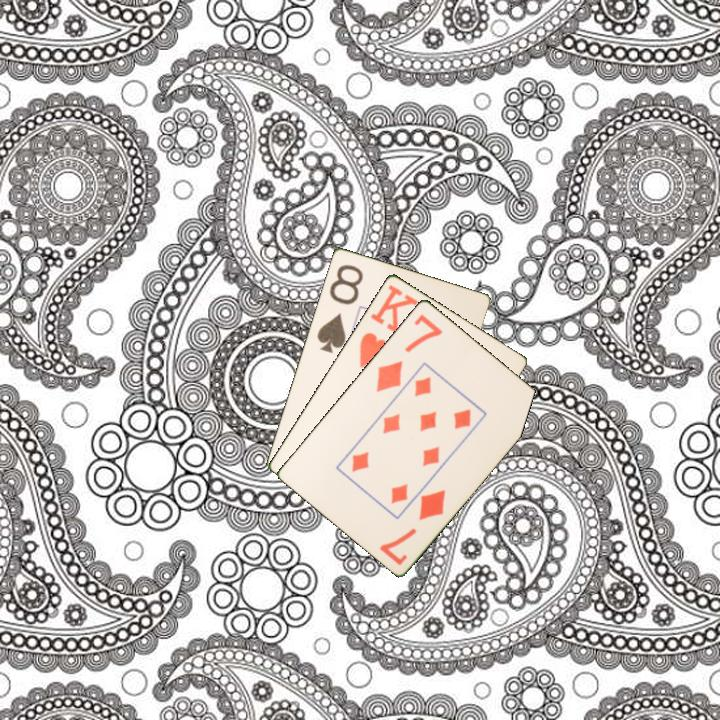7d: (372, 310, 445, 395), (376, 485, 448, 568)
8s: (313, 260, 366, 356)
Kh: (356, 280, 421, 370)
